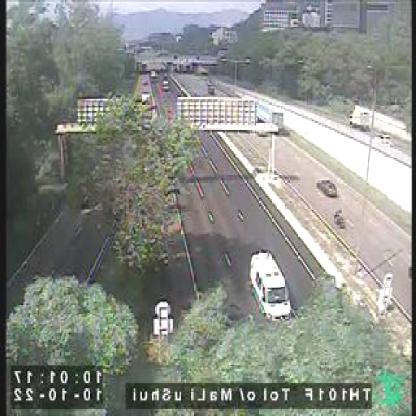Car: (249, 248, 293, 316), (316, 177, 339, 198)
